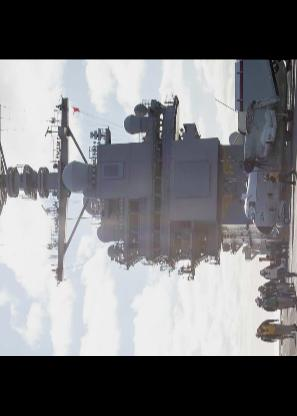C5: (233, 61, 292, 236)
